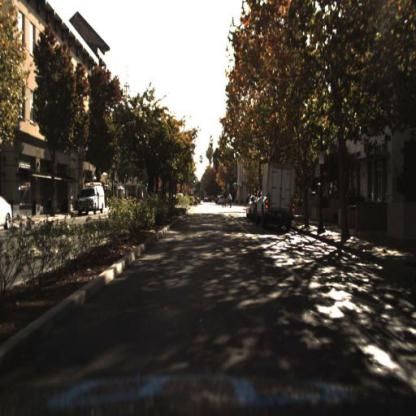car: (256, 158, 299, 229), (77, 183, 108, 220), (1, 196, 13, 230)
pedestrian: (221, 194, 235, 212), (223, 192, 235, 210)
trafficLight-Green: (233, 175, 239, 190)
truck: (254, 153, 301, 232)
